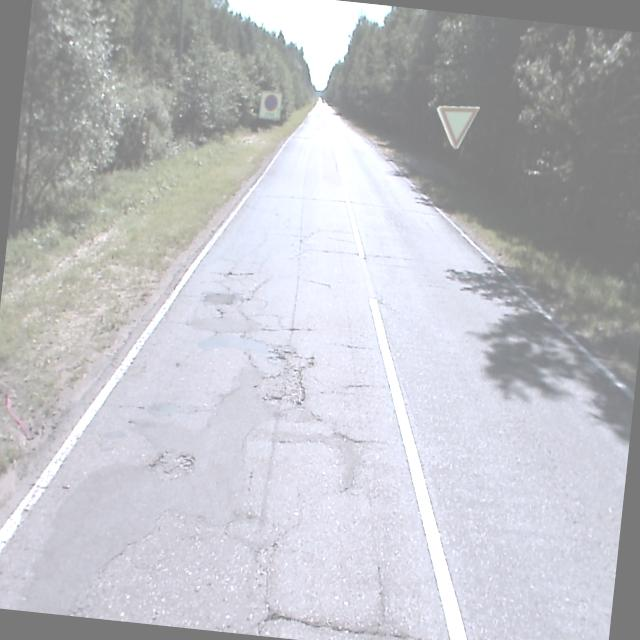road: (0, 97, 634, 640)
